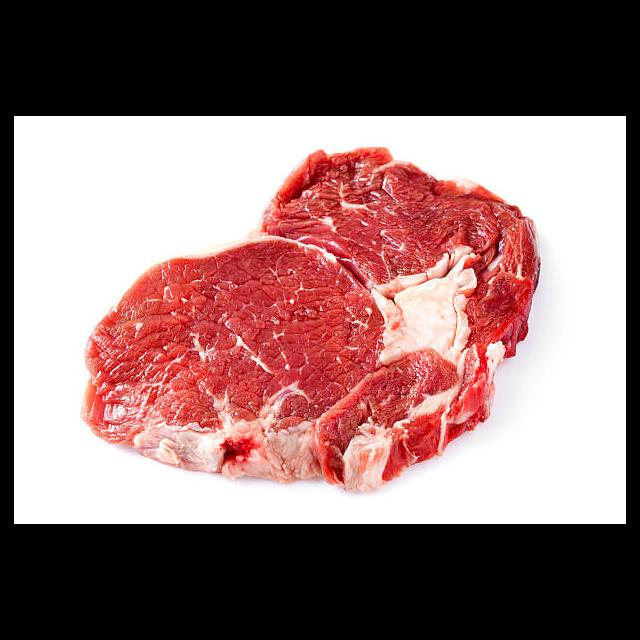beef: (80, 147, 541, 495)
